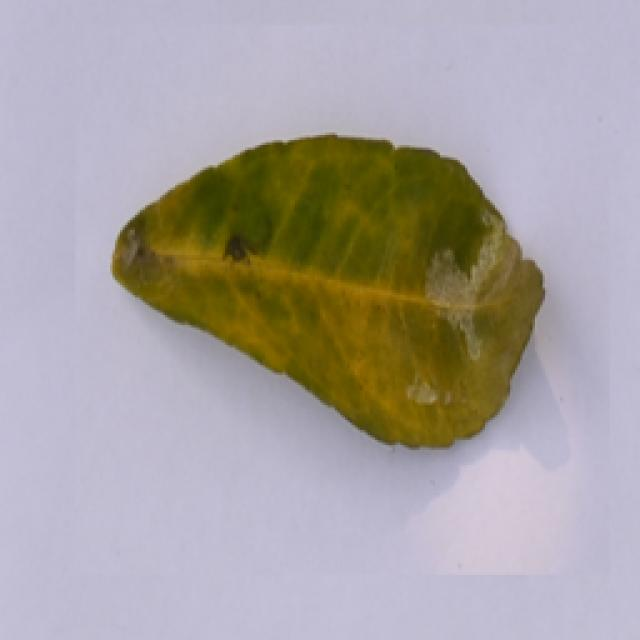greening: (99, 128, 564, 456)
